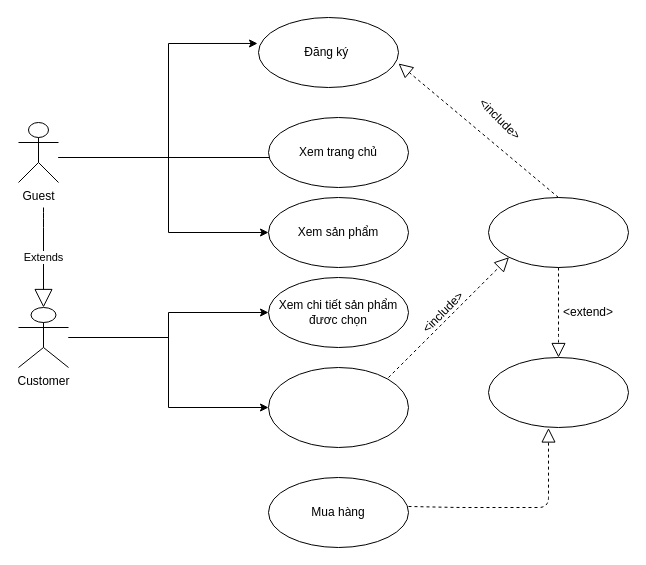
Some shapes in this 646 by 565 pixel diagram are drawn without their labels. Here are the shapes that lost their labels. From the top down, the box of each, then its label:
(488, 196, 628, 268): Đăng nhập
(268, 366, 408, 448): Quản lý giỏ hàng
(488, 356, 628, 428): Đăng xuất
